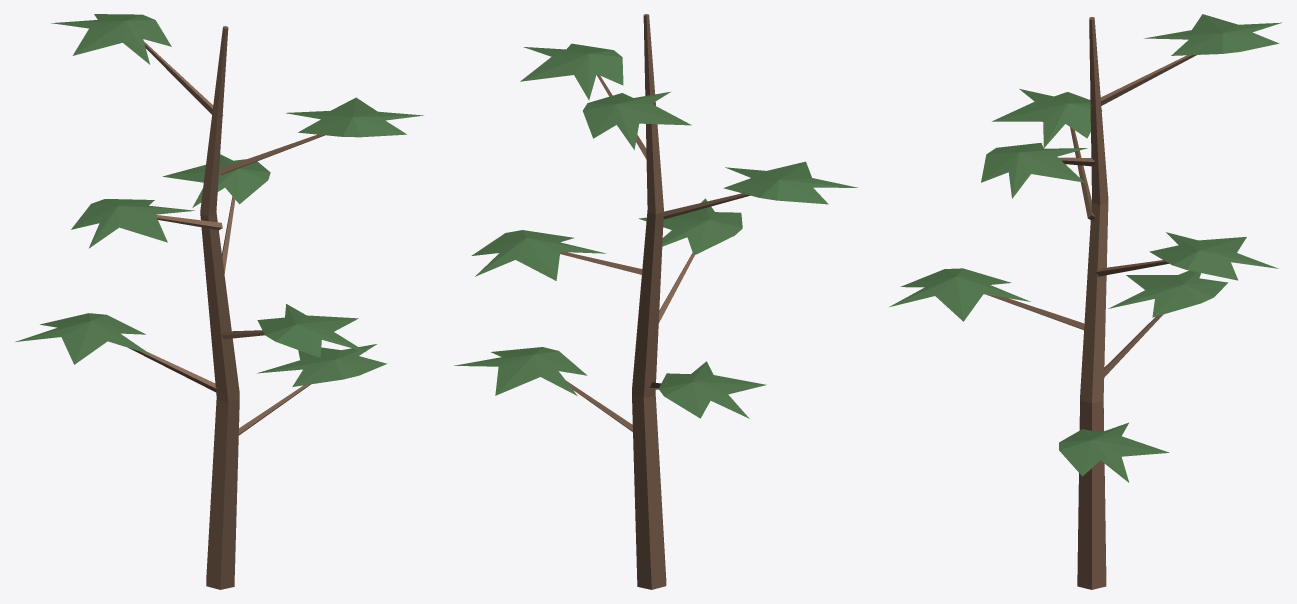
The model's file is maple_sapling.glb.
3 renders of one model, left to right at view 1: azimuth 30°, elevation 25°; view 2: azimuth 150°, elevation 25°; view 3: azimuth 270°, elevation 25°, orthographic. The views are drawn at different scales.
Visible parts, largest first — view 1: leaves, branches; view 2: leaves, branches; view 3: leaves, branches.
Part boxes in pixels (bbox=[...]): leaves: bbox=[15, 14, 423, 386]; branches: bbox=[129, 26, 324, 589]; leaves: bbox=[454, 43, 858, 418]; branches: bbox=[560, 14, 749, 589]; leaves: bbox=[889, 14, 1281, 482]; branches: bbox=[987, 17, 1196, 589].
Bounding box in the file's own units: 0.3887 × 0.6 × 0.3779.
